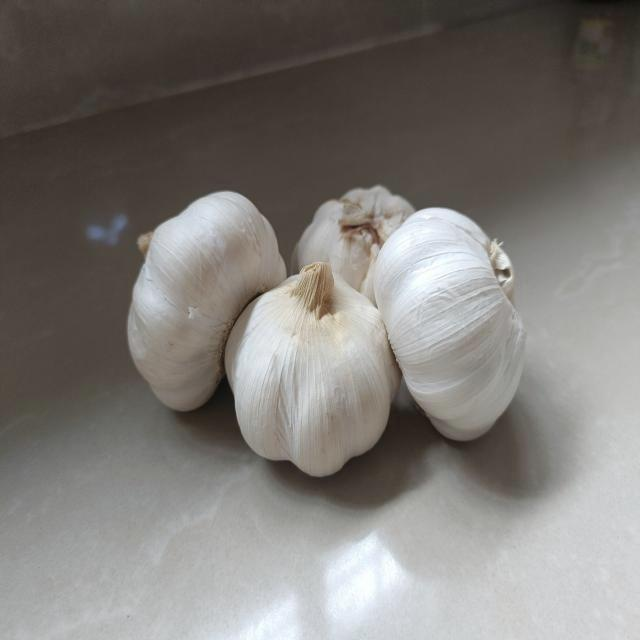garlic: (124, 183, 528, 485)
